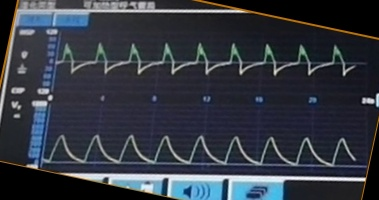Accumulation Flow: (62, 32, 347, 93)
Volume: (49, 114, 354, 172)
